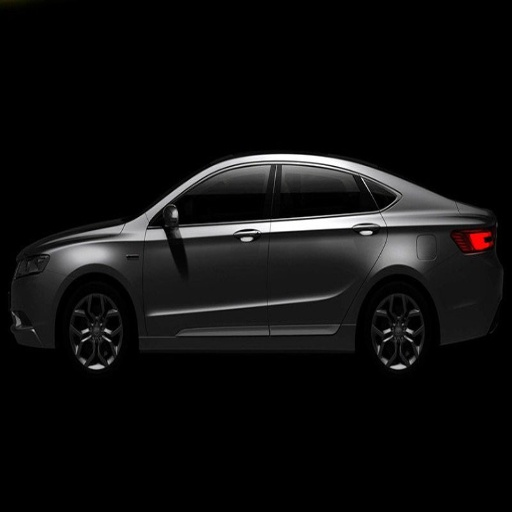back_left_door: (269, 162, 385, 335)
front_left_door: (149, 162, 275, 335)
